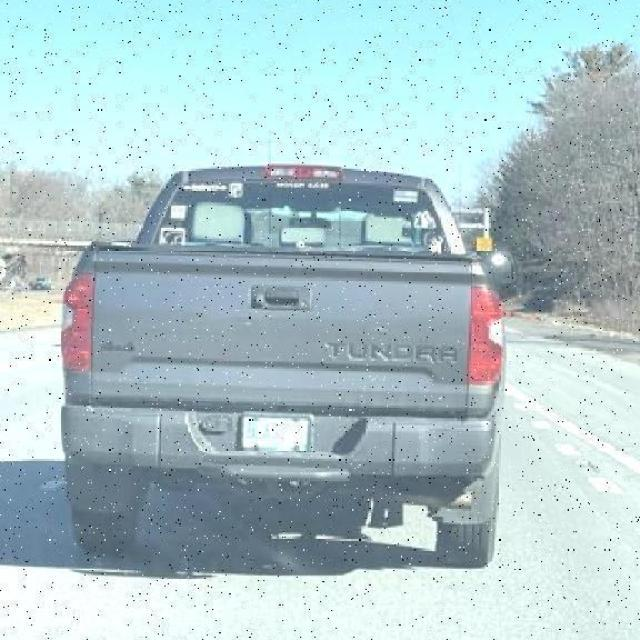license-plate: (219, 392, 403, 512)
